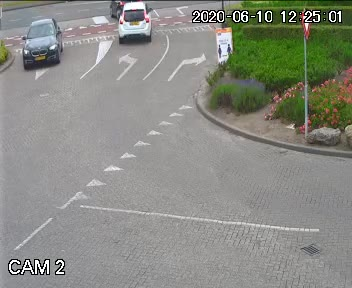car: (20, 12, 70, 77), (111, 1, 155, 45)
